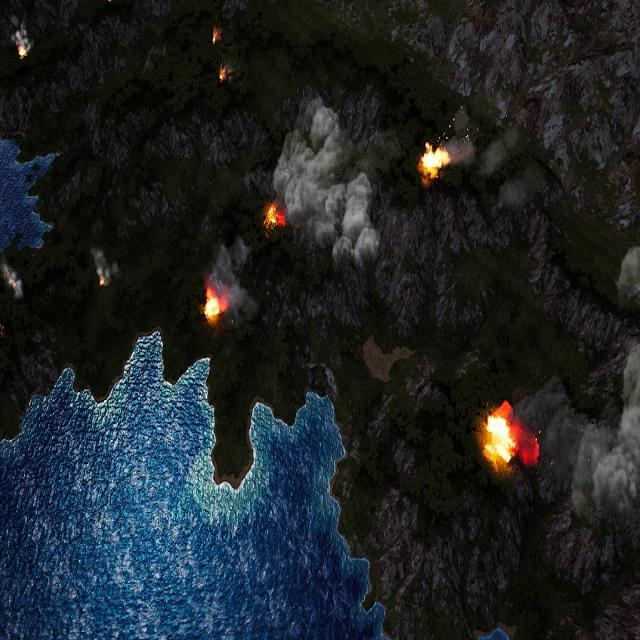fire: (484, 401, 539, 470), (420, 141, 450, 178), (204, 288, 225, 320), (265, 204, 286, 232), (213, 22, 220, 43), (17, 44, 26, 58), (219, 66, 226, 82), (98, 275, 105, 286)
smoke: (510, 331, 639, 516), (276, 92, 383, 266), (449, 110, 543, 217), (209, 237, 255, 323), (615, 231, 640, 298), (92, 247, 116, 286), (1, 258, 23, 300), (11, 13, 34, 49)
